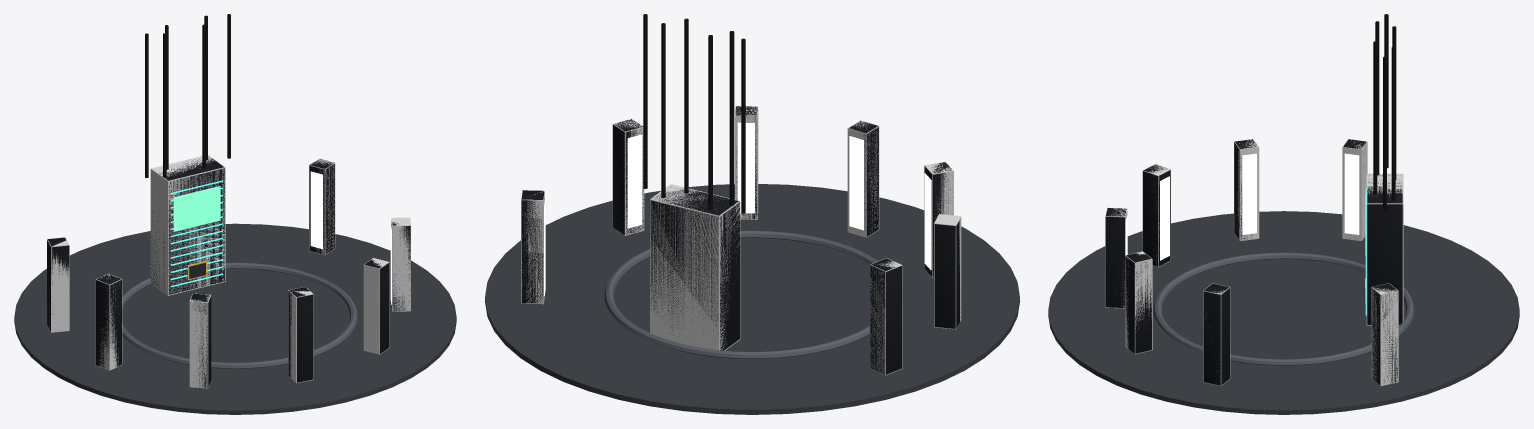
Rendered from winston_core.glb.
The picture shows the model from 3 angles, left to right: view 1: azimuth 30°, elevation 25°; view 2: azimuth 150°, elevation 25°; view 3: azimuth 270°, elevation 25°; orthographic projection. The views are drawn at different scales.
Visible parts, largest first — view 1: floor, columns, col_0, monolith, cables, ring, col_4, col_7, face, col_6, col_2, blades (+3 smaller); view 2: floor, columns, col_0, monolith, cables, blades, ring, col_1, col_2, col_5, col_7, col_4 (+2 smaller); view 3: floor, columns, monolith, ring, blades, cables, col_1, col_6, col_2, col_0, col_3, col_4 (+1 smaller).
Boxes of the visible parts, x1,y1,x2,y2 form: floor: (14,223,456,414); columns: (47,159,410,387); col_0: (150,155,225,295); monolith: (151,156,224,294); cables: (145,14,230,177); ring: (122,262,357,368); col_4: (189,293,211,388); col_7: (391,217,410,311); face: (173,186,220,231); col_6: (363,258,389,354); col_2: (47,237,69,332); blades: (310,171,391,304); floor: (485,184,1019,414); columns: (521,106,960,374); col_0: (650,184,740,350); monolith: (650,187,739,350); cables: (643,14,745,213); blades: (544,122,931,295); ring: (604,231,877,358); col_1: (521,190,544,304); col_2: (870,258,902,375); col_5: (847,120,879,237); col_7: (612,118,644,235); col_4: (924,162,953,277); floor: (1048,211,1519,414); columns: (1105,139,1397,385); monolith: (1365,174,1402,324); ring: (1153,252,1414,365); blades: (1125,153,1359,260); cables: (1373,14,1396,210); col_1: (1371,283,1398,386); col_6: (1125,251,1152,354); col_2: (1342,139,1367,240); col_0: (1366,173,1403,325); col_3: (1234,139,1259,240); col_4: (1142,164,1170,267).
Bounding box in the file's own units: 28 × 18.3 × 28.
